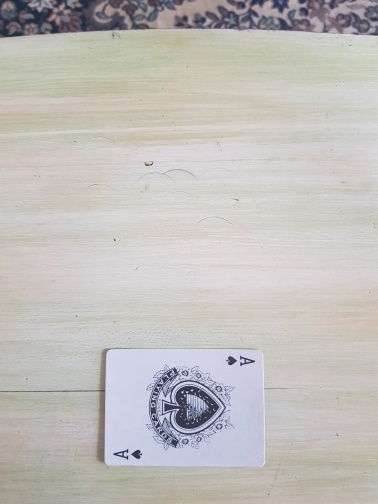ace: (103, 349, 265, 468)
